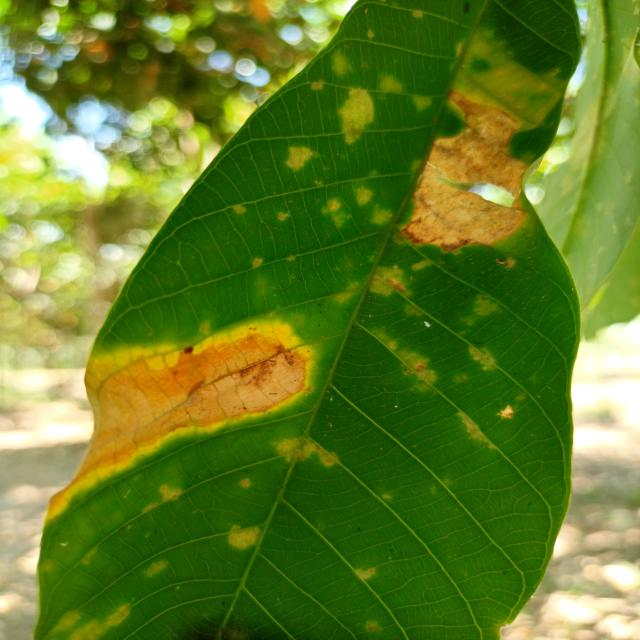Leaf-Blight: (49, 333, 308, 518), (403, 90, 527, 253)
